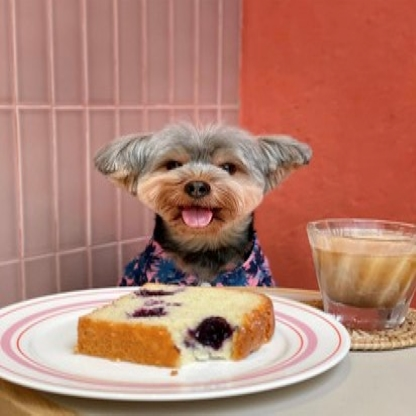yorkshire: (84, 118, 314, 283)
